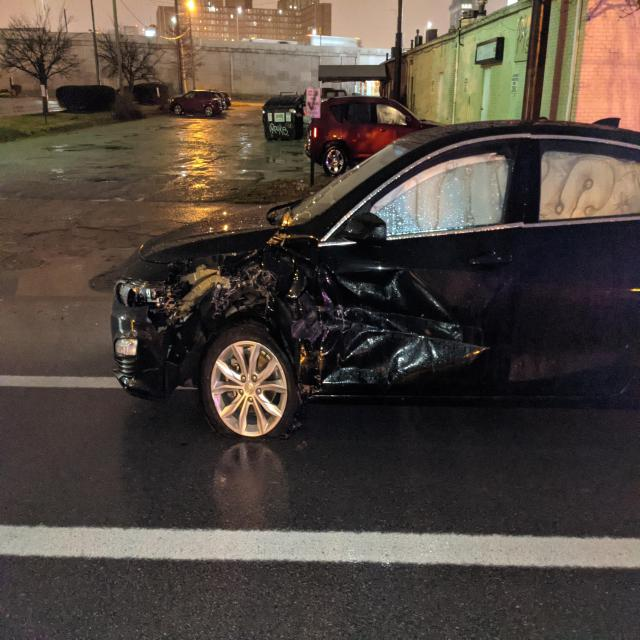crush: (113, 229, 492, 400)
